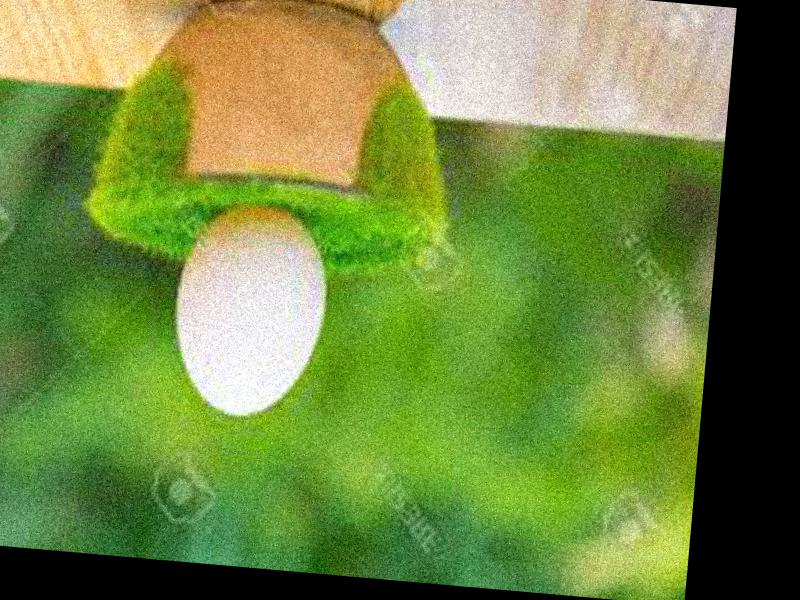Eggs: (170, 199, 336, 418)
